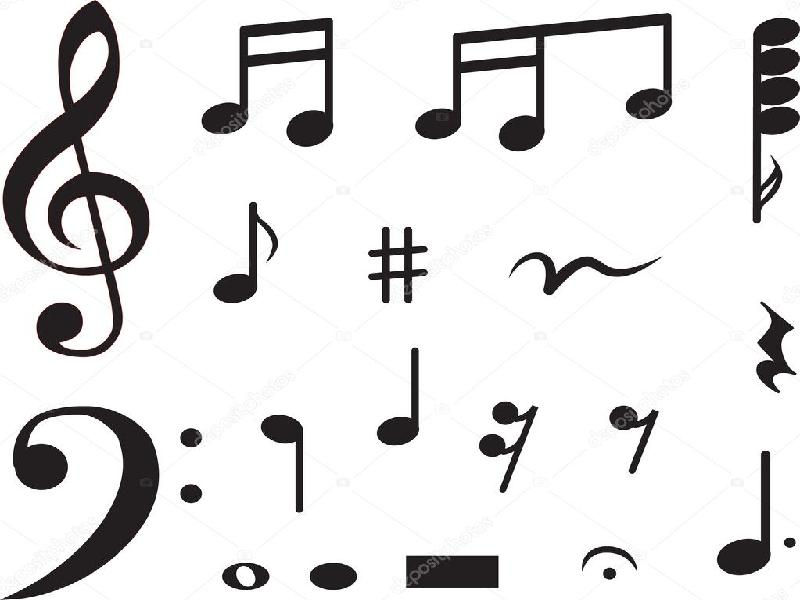C: (586, 10, 685, 128), (212, 205, 282, 304)
CF: (1, 402, 211, 600)
CS: (5, 1, 150, 358)
N: (261, 408, 316, 517), (376, 344, 424, 449)
P: (717, 450, 778, 579), (600, 568, 619, 584), (784, 534, 797, 550)
R: (221, 561, 271, 592)
SB: (403, 552, 503, 592)
SC: (412, 27, 498, 141), (200, 18, 280, 139), (278, 18, 343, 147), (494, 18, 547, 158)
